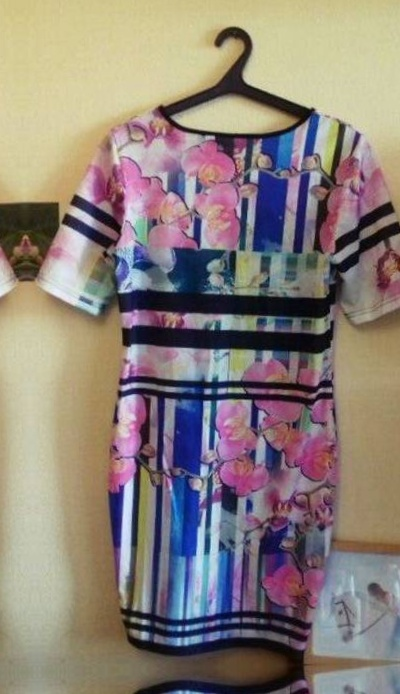Dress: (31, 58, 400, 657), (0, 69, 26, 668), (48, 677, 400, 694), (0, 688, 42, 694)
